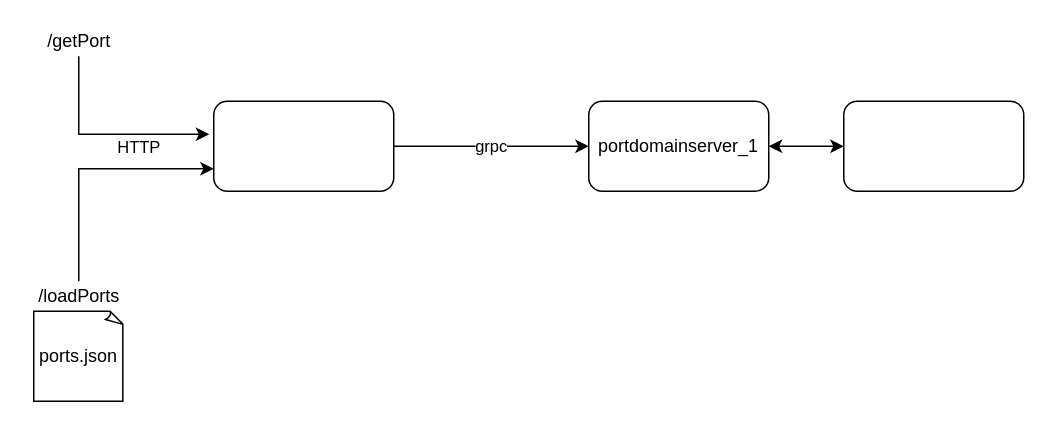
The diagram is 1050 pixels wide and 428 high, and some of its shapes have lost their labels. The centre of each missing label's shape, as x and y in pixels:
"clientapi_1" belongs at point (303, 145).
"mongodb_1" belongs at point (933, 145).
